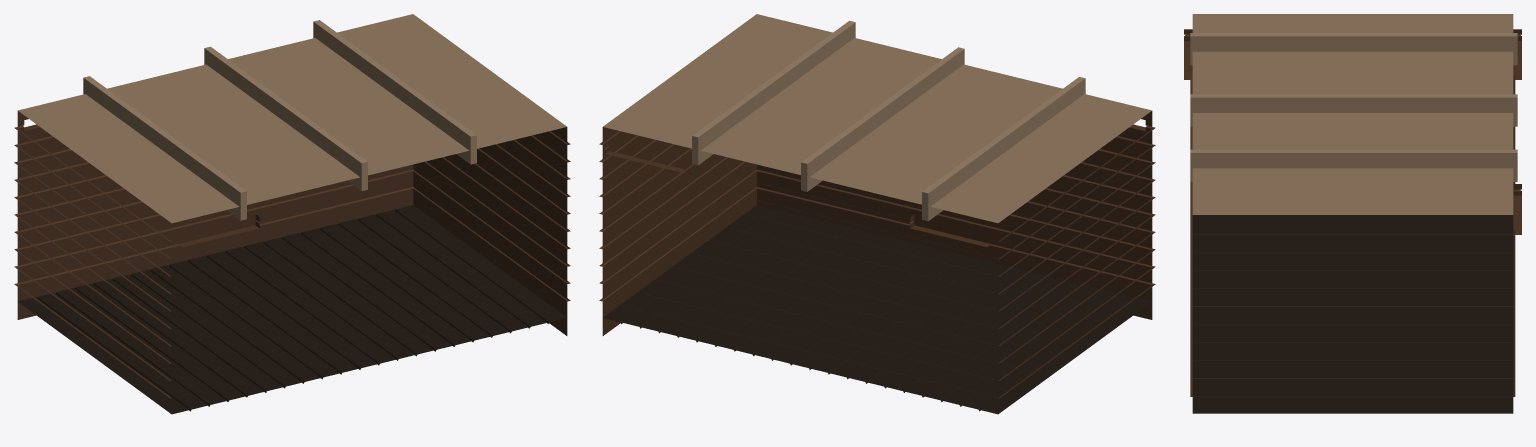
File: EV_Room.fbx
3 views of the same model, side by side, from view 1: azimuth 30°, elevation 25°; view 2: azimuth 150°, elevation 25°; view 3: azimuth 270°, elevation 25° (orthographic). The views are drawn at different scales.
Visible parts, largest first — view 1: Floor_GEO, Ceiling_GEO, Walls_GEO, CeilingSupport1_GEO, CeilingSupport3_GEO, CeilingSupport2_GEO; view 2: Floor_GEO, Ceiling_GEO, Walls_GEO, CeilingSupport2_GEO, CeilingSupport3_GEO, CeilingSupport1_GEO; view 3: Floor_GEO, Ceiling_GEO, CeilingSupport1_GEO, CeilingSupport3_GEO, CeilingSupport2_GEO, Walls_GEO.
Boxes of the visible parts, x1,y1,x2,y2 form: Floor_GEO: (18, 205, 566, 414); Ceiling_GEO: (18, 14, 566, 223); Walls_GEO: (14, 111, 570, 398); CeilingSupport1_GEO: (313, 20, 476, 164); CeilingSupport3_GEO: (83, 76, 246, 220); CeilingSupport2_GEO: (204, 46, 367, 190); Floor_GEO: (603, 205, 1151, 414); Ceiling_GEO: (603, 14, 1151, 223); Walls_GEO: (599, 111, 1155, 398); CeilingSupport2_GEO: (801, 47, 964, 191); CeilingSupport3_GEO: (922, 77, 1085, 221); CeilingSupport1_GEO: (692, 20, 855, 165); Floor_GEO: (1192, 215, 1513, 413); Ceiling_GEO: (1192, 14, 1513, 214); CeilingSupport1_GEO: (1190, 149, 1517, 181); CeilingSupport3_GEO: (1190, 33, 1517, 65); CeilingSupport2_GEO: (1190, 94, 1517, 126); Walls_GEO: (1184, 29, 1521, 396).
Bounding box in the file's own units: 658 × 352 × 462.
